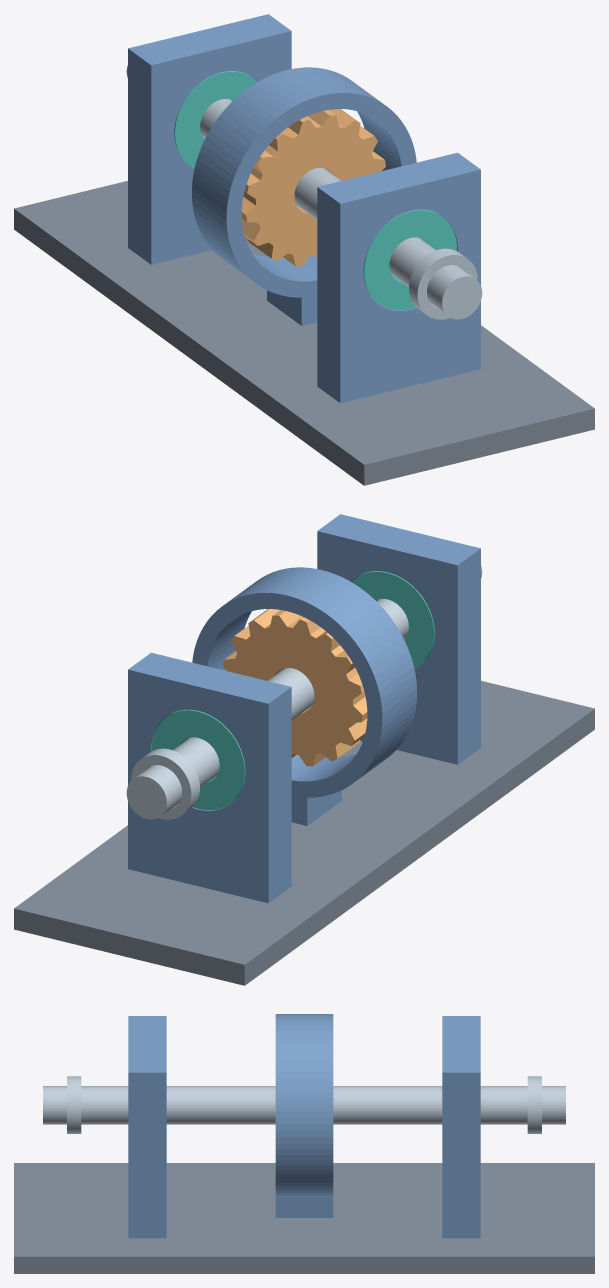
Rendered from assembly.glb.
3 renders of one model, top to bottom at view 1: azimuth 30°, elevation 25°; view 2: azimuth 150°, elevation 25°; view 3: azimuth 270°, elevation 25°, orthographic. The views are drawn at different scales.
Visible parts, largest first — view 1: base, rear_housing, guard, front_housing, gear, shaft, rear_bearing, front_bearing, rear_retainer; view 2: base, front_housing, guard, rear_housing, gear, shaft, front_bearing, rear_bearing, front_retainer; view 3: base, shaft, guard, front_housing, rear_housing, front_retainer, rear_retainer.
Part boxes in pixels (x1,y1,x2,y2): base: (14, 181, 594, 485); rear_housing: (317, 152, 480, 403); guard: (191, 67, 416, 325); front_housing: (128, 14, 291, 264); gear: (241, 109, 385, 266); shaft: (126, 65, 482, 319); rear_bearing: (363, 209, 456, 309); front_bearing: (174, 71, 256, 167); rear_retainer: (409, 248, 477, 319); base: (14, 681, 594, 985); front_housing: (128, 652, 291, 903); guard: (192, 567, 417, 825); rear_housing: (317, 514, 480, 764); gear: (223, 609, 367, 766); shaft: (126, 565, 482, 819); front_bearing: (152, 709, 245, 809); rear_bearing: (352, 571, 434, 667); front_retainer: (131, 748, 199, 819); base: (14, 1163, 594, 1273); shaft: (43, 1086, 565, 1124); guard: (275, 1014, 333, 1217); front_housing: (442, 1016, 480, 1238); rear_housing: (128, 1016, 166, 1238); front_retainer: (527, 1076, 541, 1133); rear_retainer: (67, 1076, 81, 1133).
Size of the model in its own units: 0.0522 by 0.0533 by 0.1372.
